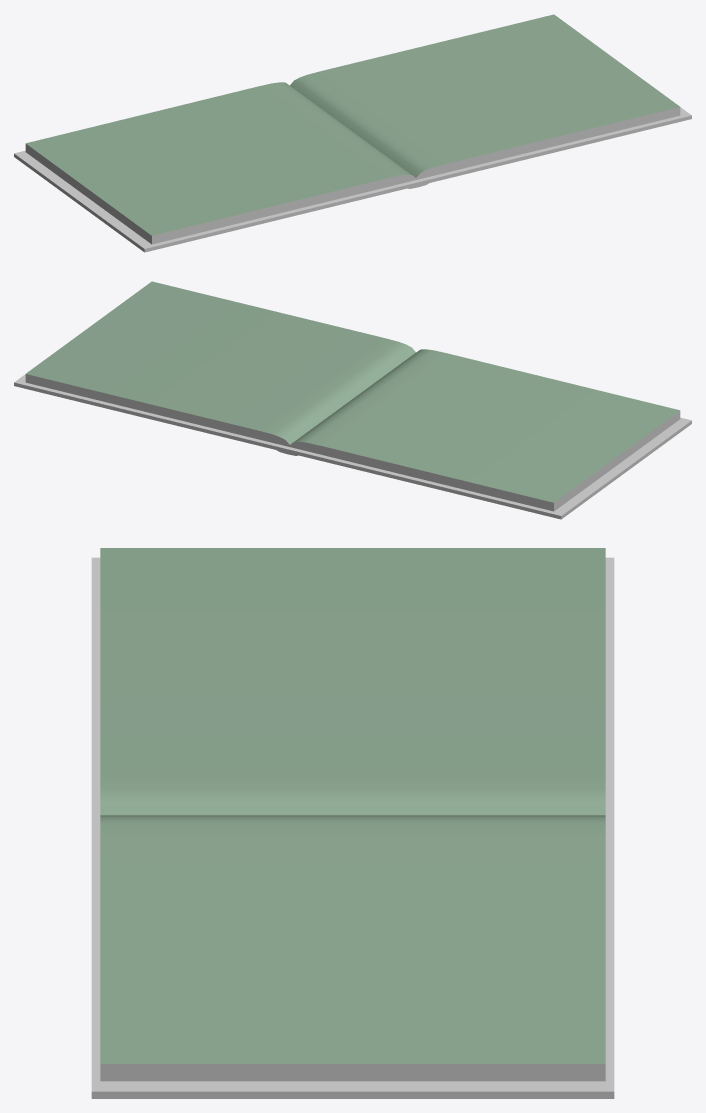
The model's file is Libro.fbx.
3 views of the same model, one above another, from view 1: azimuth 30°, elevation 25°; view 2: azimuth 150°, elevation 25°; view 3: azimuth 270°, elevation 25° (orthographic). The views are drawn at different scales.
Parts seen in each view (by area): view 1: polySurface2; view 2: polySurface2; view 3: polySurface2.
Part boxes in pixels (x1,y1,x2,y2): polySurface2: (14,14,691,252); polySurface2: (14,281,691,519); polySurface2: (91,548,614,1098).
Size of the model in its own units: 2.5 by 0.0635 by 1.03.
